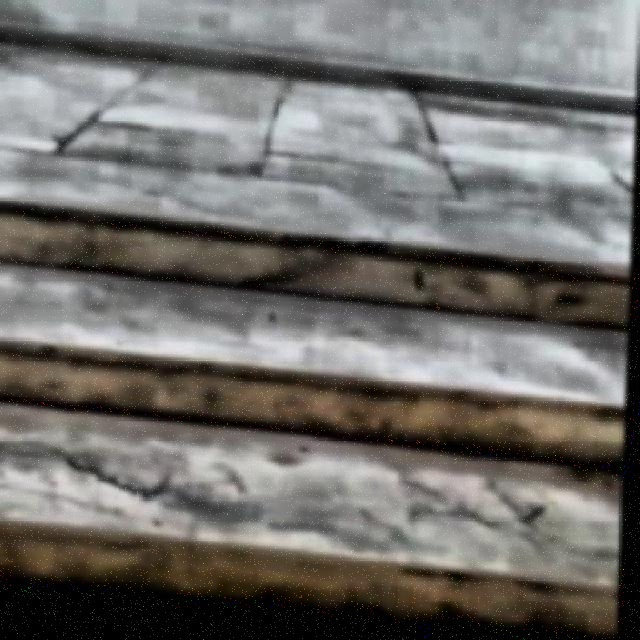stair: (2, 205, 632, 639)
